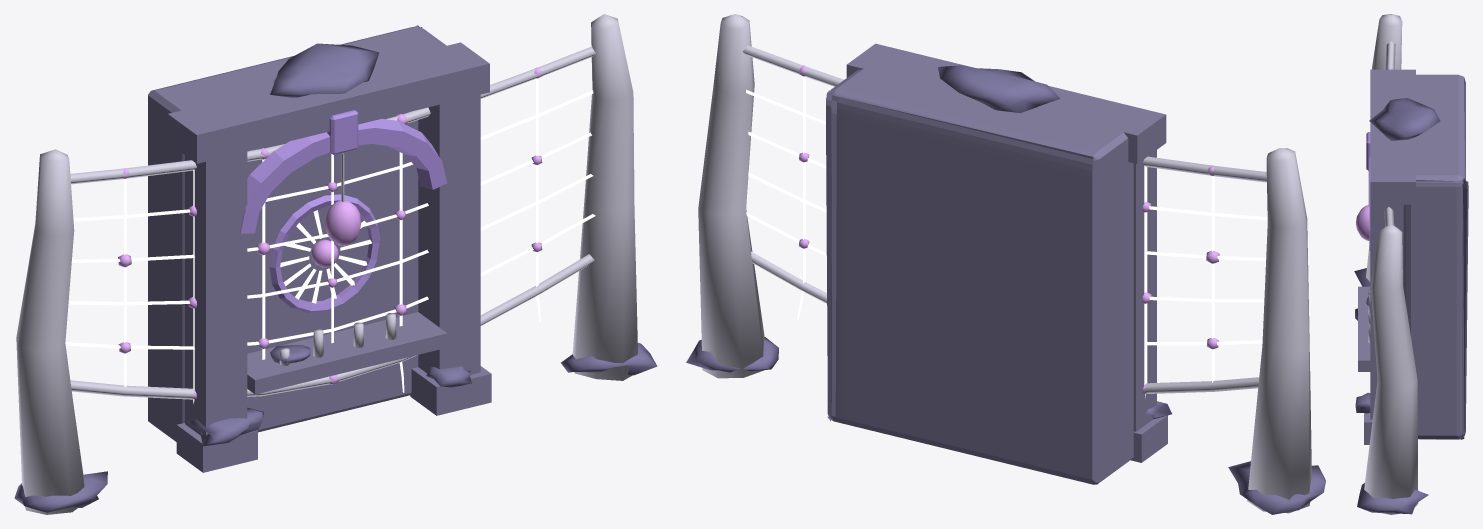
The model's file is FungalF7Kit.fbx.
3 renders of one model, left to right at view 1: azimuth 30°, elevation 25°; view 2: azimuth 150°, elevation 25°; view 3: azimuth 270°, elevation 25°, orthographic. The views are drawn at different scales.
Visible parts, largest first — view 1: LampNiche__TRIM, MyceliumNet__STEM, LampNiche__ACCENT, MyceliumNet__GLOW, LampNiche__MOSS, MyceliumNet__MOSS, LampNiche__BULB, MyceliumNet__BULB, LampNiche__GLOW, LampNiche__STEM; view 2: LampNiche__TRIM, MyceliumNet__STEM, MyceliumNet__GLOW, LampNiche__MOSS, MyceliumNet__MOSS, MyceliumNet__BULB; view 3: LampNiche__TRIM, MyceliumNet__STEM, LampNiche__MOSS, MyceliumNet__MOSS, LampNiche__BULB, LampNiche__ACCENT, LampNiche__STEM.
Part boxes in pixels (left/top/right/bottom): LampNiche__TRIM: left=148, top=25, right=491, bottom=472; MyceliumNet__STEM: left=16, top=14, right=637, bottom=514; LampNiche__ACCENT: left=239, top=110, right=447, bottom=312; MyceliumNet__GLOW: left=65, top=78, right=595, bottom=403; LampNiche__MOSS: left=186, top=43, right=472, bottom=446; MyceliumNet__MOSS: left=14, top=343, right=657, bottom=512; LampNiche__BULB: left=311, top=200, right=361, bottom=267; MyceliumNet__BULB: left=118, top=67, right=542, bottom=399; LampNiche__GLOW: left=280, top=210, right=371, bottom=303; LampNiche__STEM: left=279, top=153, right=396, bottom=365; LampNiche__TRIM: left=826, top=43, right=1167, bottom=484; MyceliumNet__STEM: left=698, top=14, right=1311, bottom=513; MyceliumNet__GLOW: left=746, top=76, right=1267, bottom=397; LampNiche__MOSS: left=938, top=65, right=1171, bottom=418; MyceliumNet__MOSS: left=686, top=337, right=1325, bottom=514; MyceliumNet__BULB: left=798, top=65, right=1219, bottom=393; LampNiche__TRIM: left=1358, top=69, right=1468, bottom=444; MyceliumNet__STEM: left=1364, top=14, right=1418, bottom=514; LampNiche__MOSS: left=1355, top=98, right=1440, bottom=413; MyceliumNet__MOSS: left=1354, top=268, right=1428, bottom=514; LampNiche__BULB: left=1356, top=205, right=1369, bottom=240; LampNiche__ACCENT: left=1366, top=132, right=1370, bottom=250; LampNiche__STEM: left=1368, top=171, right=1370, bottom=343.
Size of the model in its own units: 27.35 by 15.53 by 5.5.
